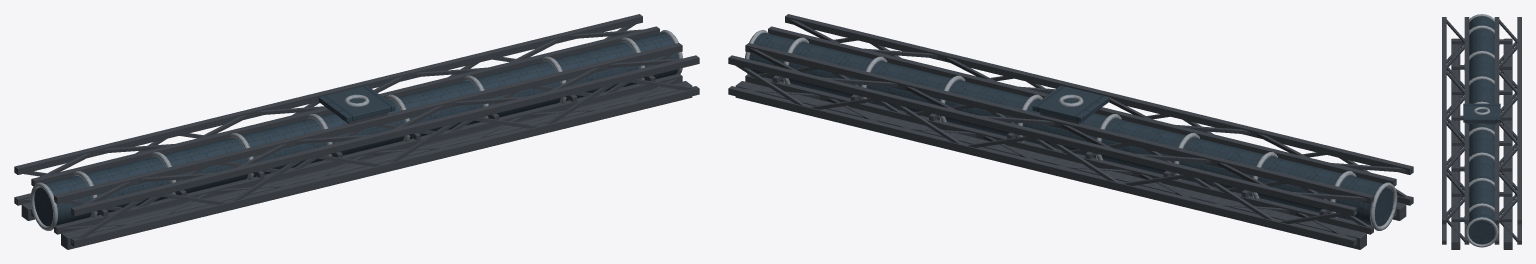
File: large_ring_spoke_lod0.glb
3 views of the same model, side by side, from view 1: azimuth 30°, elevation 25°; view 2: azimuth 150°, elevation 25°; view 3: azimuth 270°, elevation 25° (orthographic). The views are drawn at different scales.
Visible parts, largest first — view 1: LOD0_Mechanical, LOD0_Armor, LOD0_BrushedMetal; view 2: LOD0_Mechanical, LOD0_Armor, LOD0_BrushedMetal; view 3: LOD0_Mechanical, LOD0_Armor, LOD0_BrushedMetal.
Part boxes in pixels (left/top/right/bottom): LOD0_Mechanical: left=14, top=14, right=699, bottom=249; LOD0_Armor: left=34, top=33, right=678, bottom=226; LOD0_BrushedMetal: left=30, top=30, right=682, bottom=230; LOD0_Mechanical: left=728, top=14, right=1413, bottom=249; LOD0_Armor: left=749, top=33, right=1393, bottom=226; LOD0_BrushedMetal: left=745, top=30, right=1397, bottom=230; LOD0_Mechanical: left=1442, top=17, right=1521, bottom=249; LOD0_Armor: left=1463, top=16, right=1500, bottom=244; LOD0_BrushedMetal: left=1464, top=14, right=1499, bottom=247.
Bounding box in the file's own units: 64.38 × 5.64 × 10.6.
Materials: 3 (3 with a texture image).
